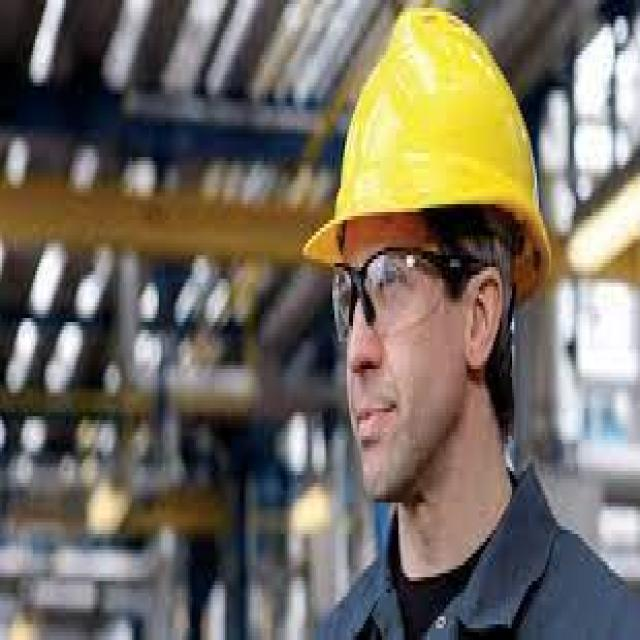glasses: (329, 241, 472, 334)
